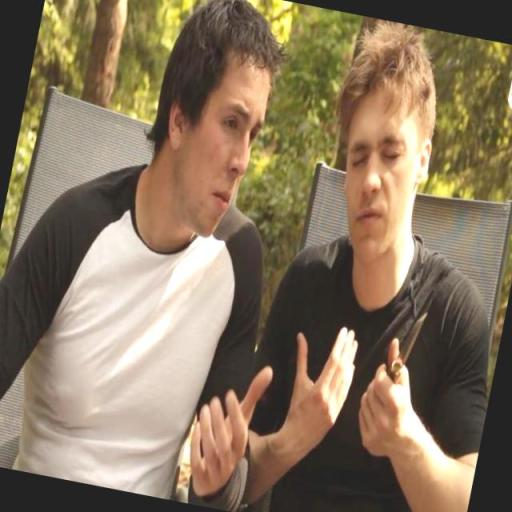knife: (350, 288, 438, 449)
